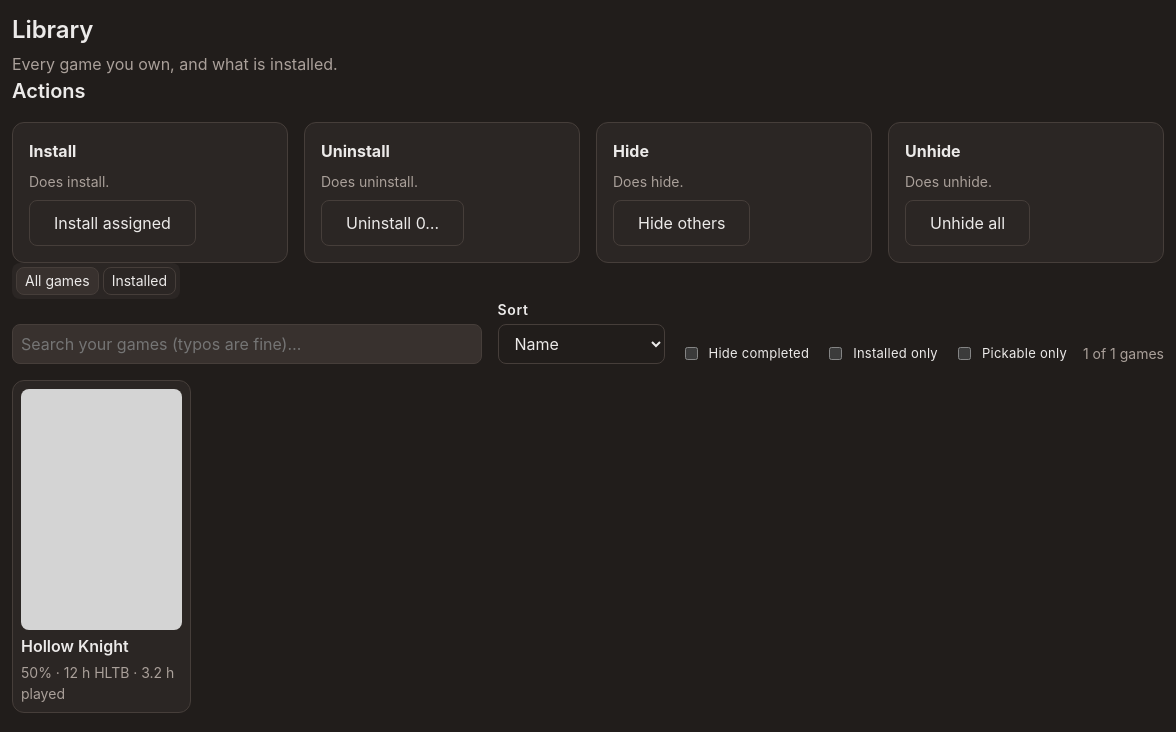
Test: Library › says when nothing is installed
Expected: the text "1 of 1 games" is shown, [1083, 342, 1164, 364]
Click the button "Installed" at (139, 281), box [103, 267, 176, 294]
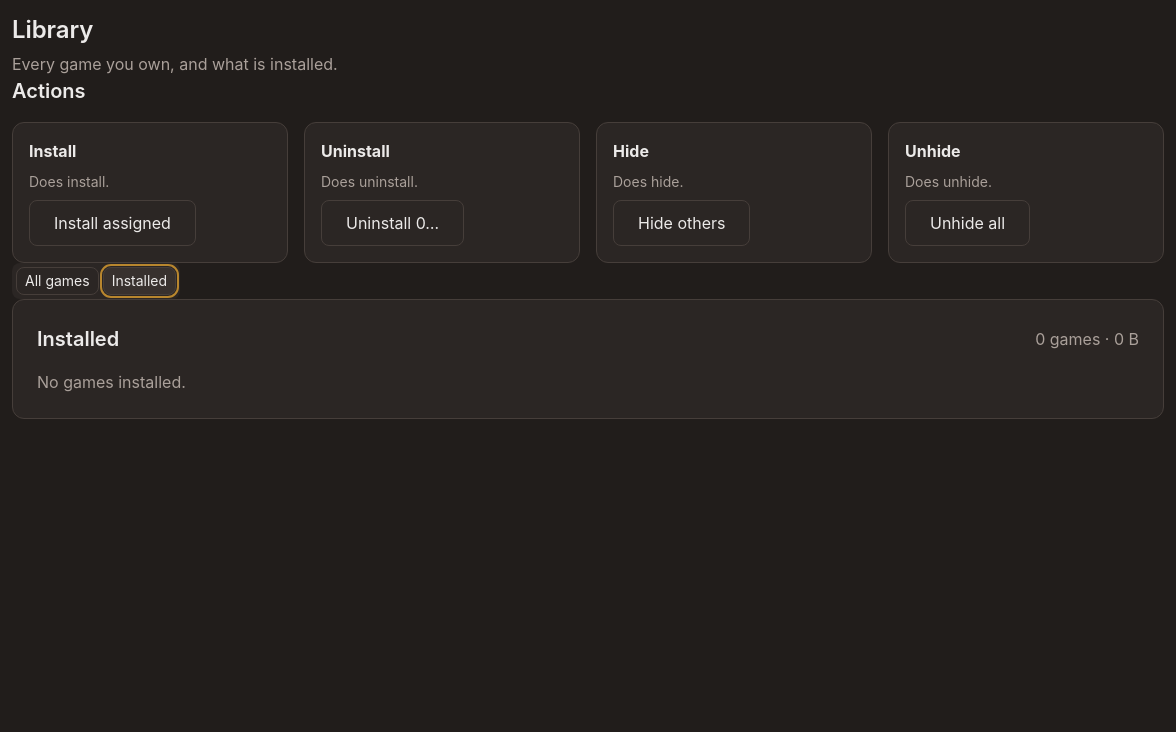
Result: the text "No games installed." is shown at [37, 372, 186, 392]
